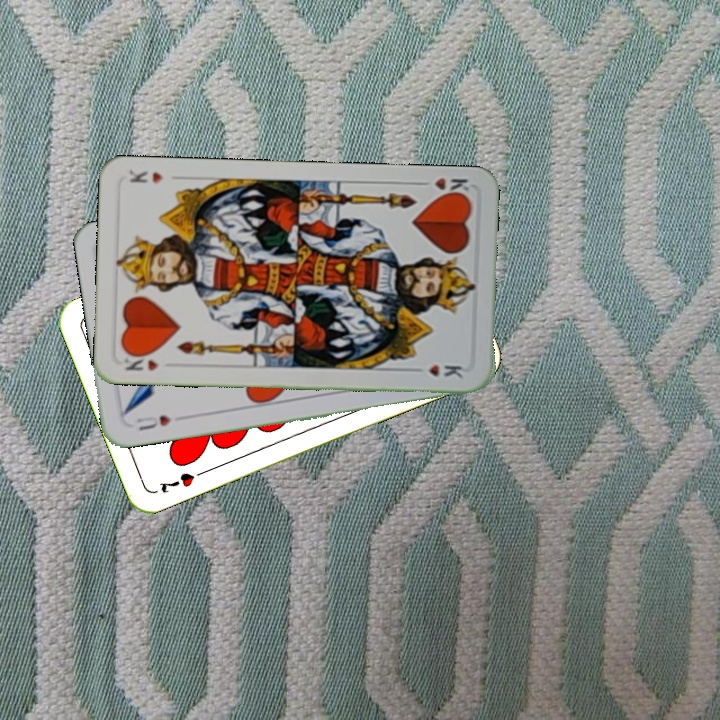H7: (155, 466, 208, 496)
HK: (414, 173, 473, 200), (120, 349, 161, 373)
HU: (133, 411, 174, 433)
